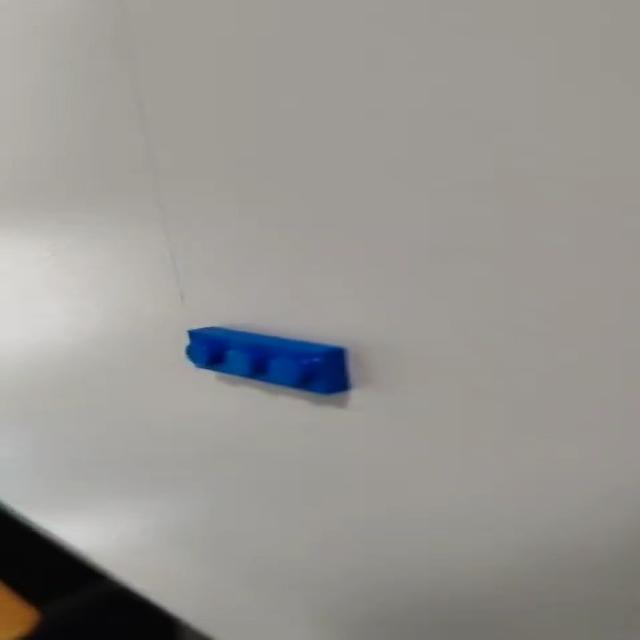C3x1x0: (183, 323, 353, 400)
